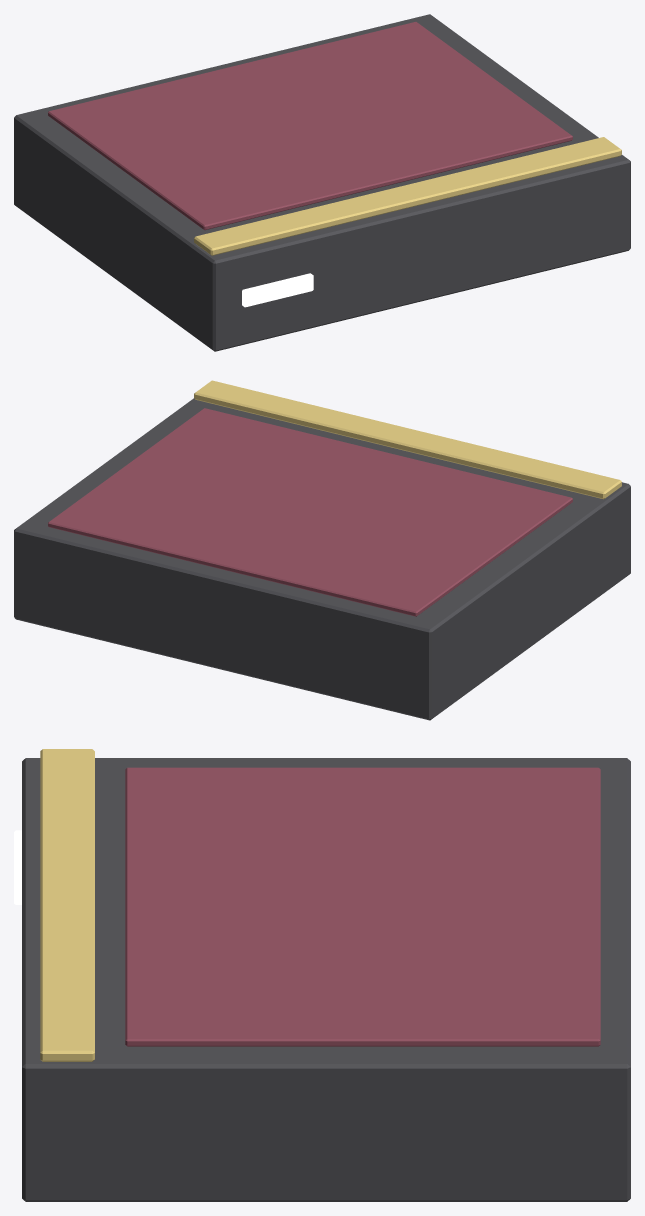
Rendered from theatre-stage-and-backstage-aisle-step-module-fda1c692__35894.glb.
3 renders of one model, top to bottom at view 1: azimuth 30°, elevation 25°; view 2: azimuth 150°, elevation 25°; view 3: azimuth 270°, elevation 25°, orthographic. The views are drawn at different scales.
Parts seen in each view (by area): view 1: aisle-step-module; view 2: aisle-step-module; view 3: aisle-step-module.
Boxes of the visible parts, bbox=[...] form: aisle-step-module: bbox=[14, 14, 630, 351]; aisle-step-module: bbox=[14, 380, 630, 720]; aisle-step-module: bbox=[14, 749, 630, 1201].
Bounding box in the file's own units: 1.2 × 0.27 × 1.01.
